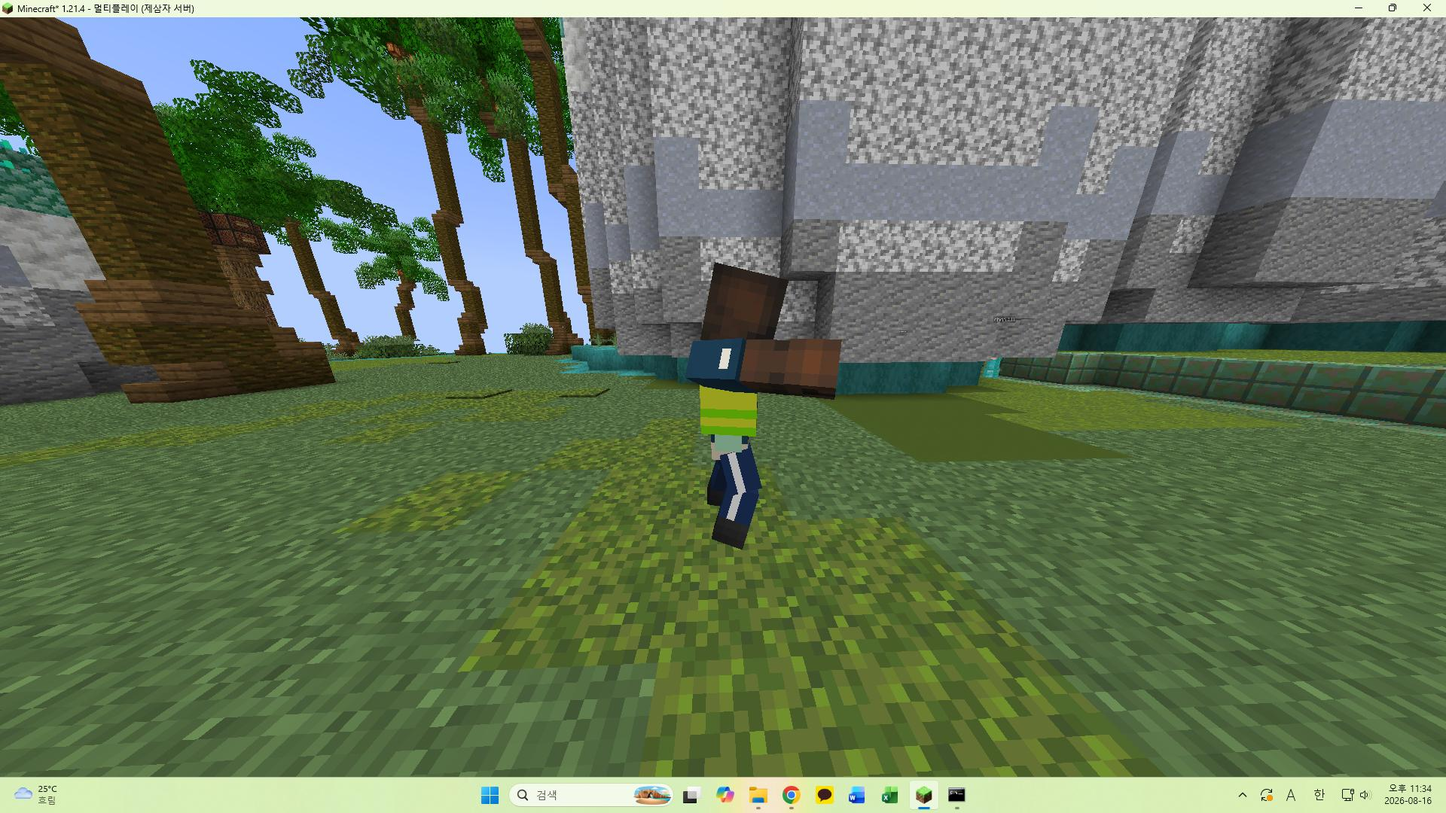Guardian: (686, 263, 840, 548)
